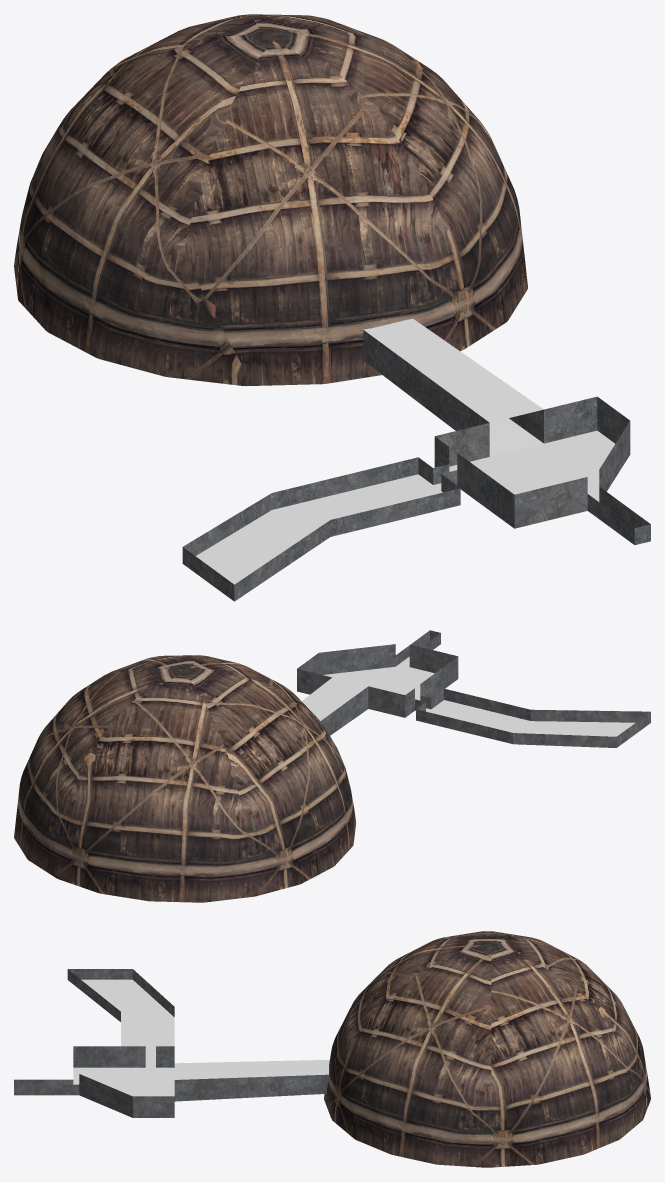
The model's file is example_level1.gltf.
3 renders of one model, top to bottom at view 1: azimuth 30°, elevation 25°; view 2: azimuth 150°, elevation 25°; view 3: azimuth 270°, elevation 25°, orthographic. The views are drawn at different scales.
Parts seen in each view (by area): view 1: Icosphere, Plane; view 2: Icosphere, Plane; view 3: Icosphere, Plane.
Part boxes in pixels (bbox=[...]): Icosphere: bbox=[14, 14, 527, 386]; Plane: bbox=[182, 318, 650, 601]; Icosphere: bbox=[14, 655, 355, 902]; Plane: bbox=[297, 630, 650, 747]; Icosphere: bbox=[324, 931, 650, 1167]; Plane: bbox=[14, 969, 329, 1117].
Size of the model in its own units: 727 by 283 by 1071.
3 materials, 2 textured.
